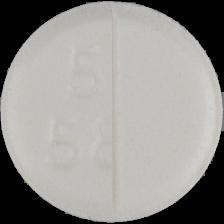0054-4299: (0, 0, 224, 224)
